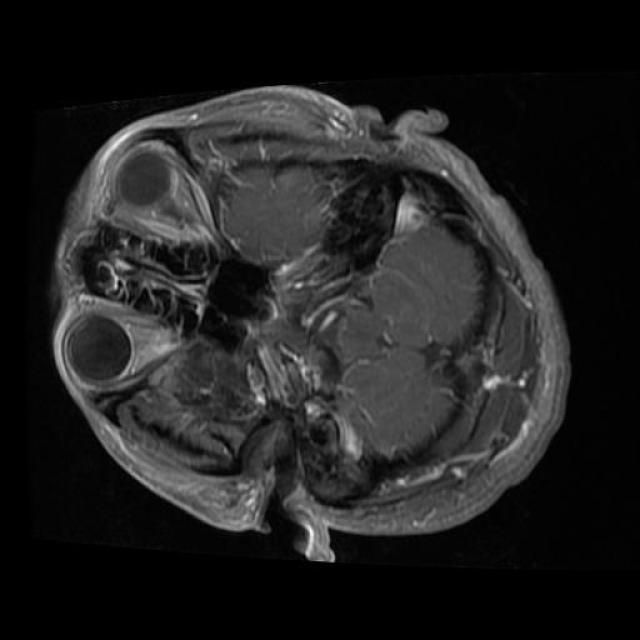Glioma: (115, 337, 258, 473)
